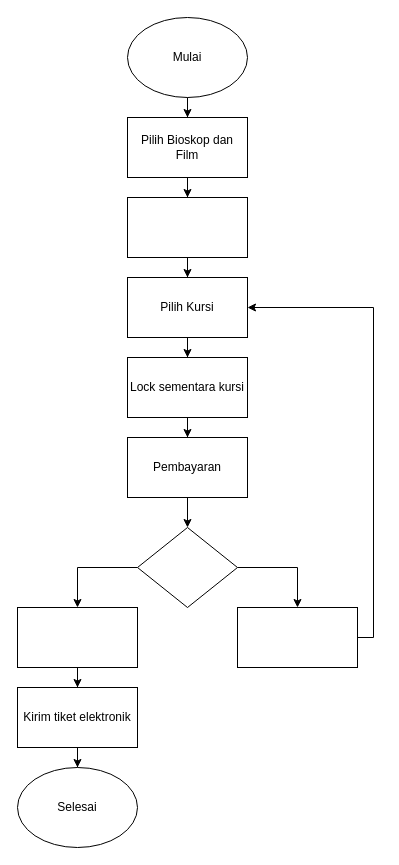
Some shapes in this 399 by 865 pixel diagram are drawn without their labels. Each missing label, with the centre of its shape:
Pembayaran berhasil kursi tersimpan sebagai terjual: pixel 77 637
Pembayaran gagal hapus lock pada kursi: pixel 297 637
Pilih Tanggal dan Waktu Tayang: pixel 187 227
Verifikasi Pembayatan: pixel 187 567
